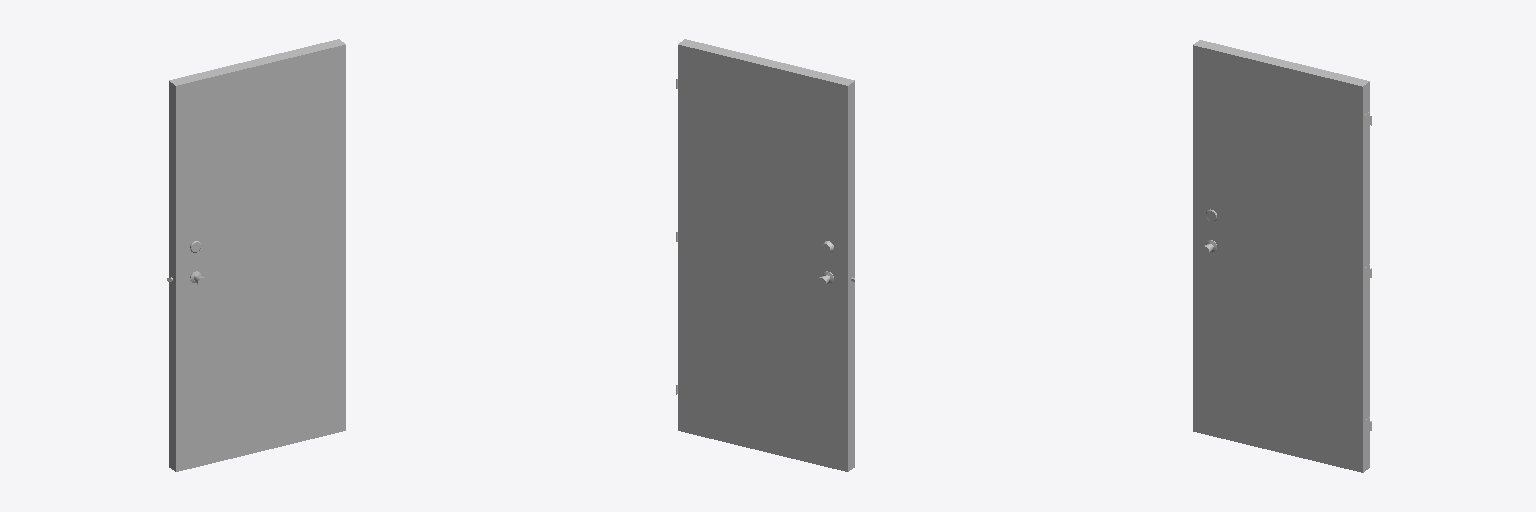
File: sgc_door_single_a.obj
The picture shows the model from 3 angles: view 1: azimuth 30°, elevation 25°; view 2: azimuth 150°, elevation 25°; view 3: azimuth 330°, elevation 25°; orthographic projection.
Visible parts, largest first — view 1: Door_A; view 2: Door_A; view 3: Door_A.
Part boxes in pixels (left/top/right/bottom): Door_A: left=167, top=39, right=345, bottom=471; Door_A: left=676, top=39, right=854, bottom=471; Door_A: left=1193, top=40, right=1371, bottom=472.
Size of the model in its own units: 14.66 by 30.82 by 3.2.